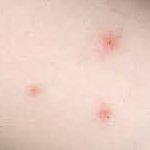Ants: (101, 33, 118, 52), (96, 104, 111, 122), (25, 82, 44, 95)
